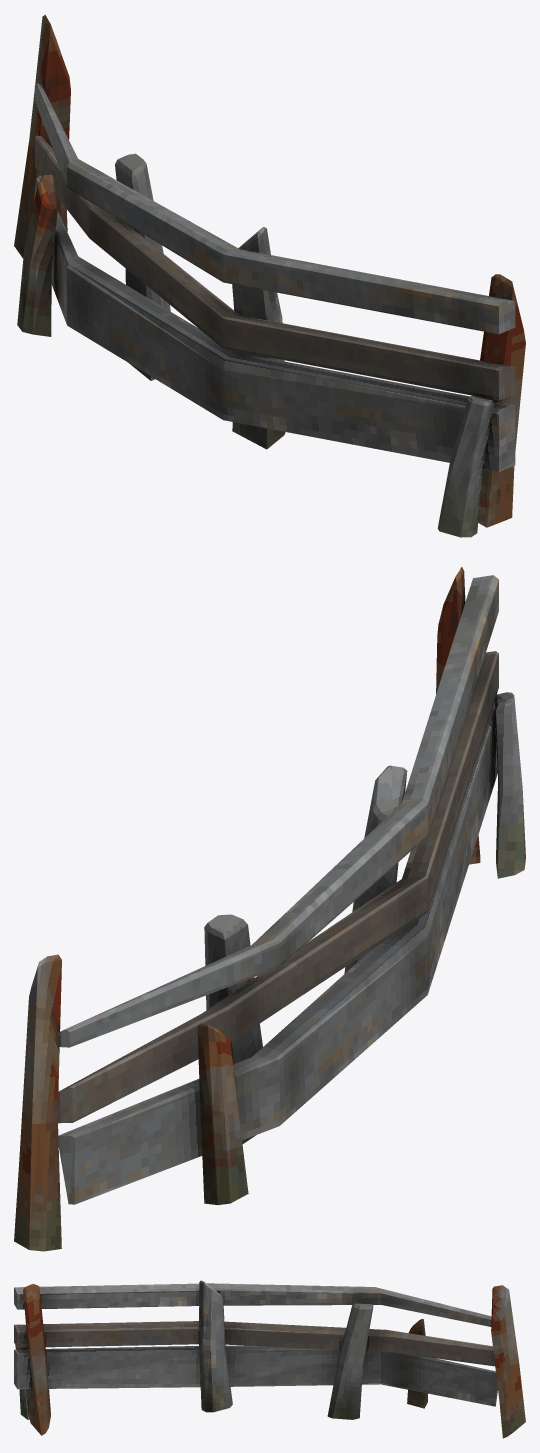
The model's file is Curve_fence_02.glb.
3 views of the same model, one above another, from view 1: azimuth 30°, elevation 25°; view 2: azimuth 150°, elevation 25°; view 3: azimuth 270°, elevation 25° (orthographic). The views are drawn at different scales.
Visible parts, largest first — view 1: Curve_fence_02; view 2: Curve_fence_02; view 3: Curve_fence_02.
Part boxes in pixels (bbox=[...]): Curve_fence_02: bbox=[14, 14, 525, 537]; Curve_fence_02: bbox=[14, 567, 525, 1251]; Curve_fence_02: bbox=[14, 1280, 525, 1438].
Bounding box in the file's own units: 3.36 × 5.31 × 15.21.
Materials: 1 (1 with a texture image).
